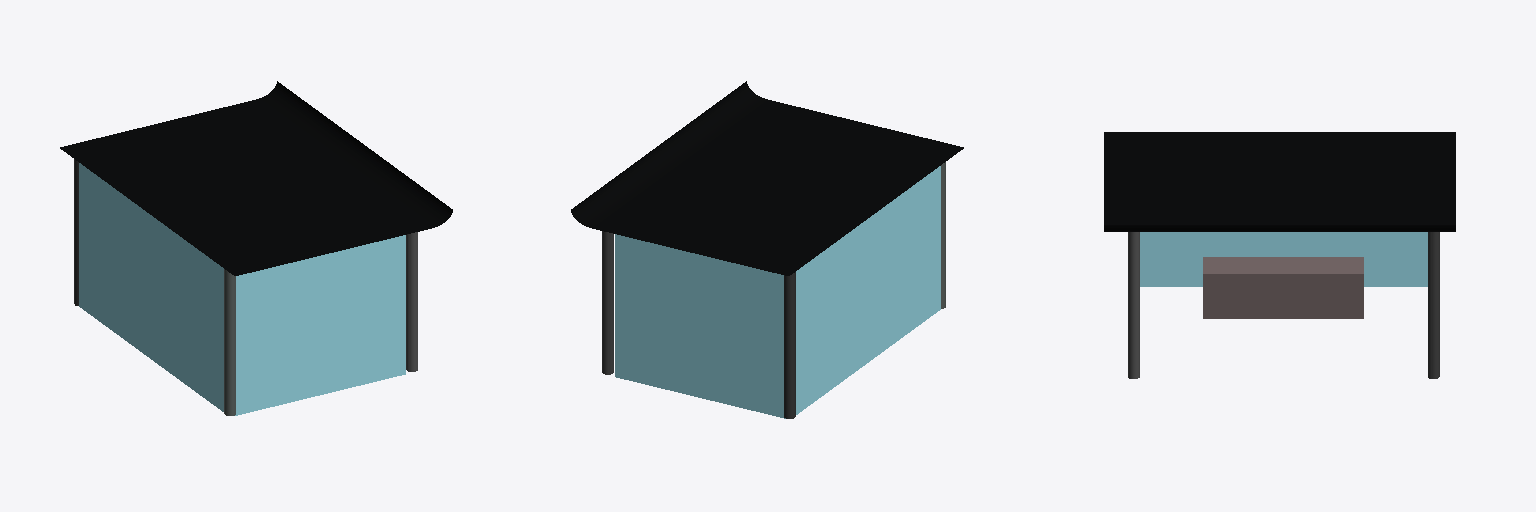
The model's file is bushokje.obj.
The picture shows the model from 3 angles: view 1: azimuth 30°, elevation 25°; view 2: azimuth 150°, elevation 25°; view 3: azimuth 270°, elevation 25°; orthographic projection.
Visible parts, largest first — view 1: Plane, Cube.001_Cube.002, Cube_Cube.001, Cylinder.001, Cylinder, Cylinder.003; view 2: Plane, Cube.002_Cube.003, Cube_Cube.001, Cylinder.003, Cylinder.002, Cylinder.001; view 3: Plane, Cube_Cube.001, Cube.003_Cube.004, Cylinder, Cylinder.002.
Part boxes in pixels (x1,y1,x2,y2): Plane: (60, 81, 452, 275); Cube.001_Cube.002: (235, 235, 405, 415); Cube_Cube.001: (79, 163, 223, 411); Cylinder.001: (224, 269, 235, 415); Cylinder: (406, 232, 417, 371); Cylinder.003: (74, 159, 78, 305); Plane: (571, 81, 963, 275); Cube.002_Cube.003: (615, 234, 785, 418); Cube_Cube.001: (796, 166, 940, 414); Cylinder.003: (784, 272, 795, 418); Cylinder.002: (602, 231, 613, 374); Cylinder.001: (941, 162, 945, 308); Plane: (1104, 132, 1455, 231); Cube_Cube.001: (1140, 232, 1427, 286); Cube.003_Cube.004: (1203, 257, 1363, 318); Cylinder: (1128, 232, 1139, 378); Cylinder.002: (1428, 232, 1439, 378).
Bounding box in the file's own units: 8.4 × 6.19 × 11.75.